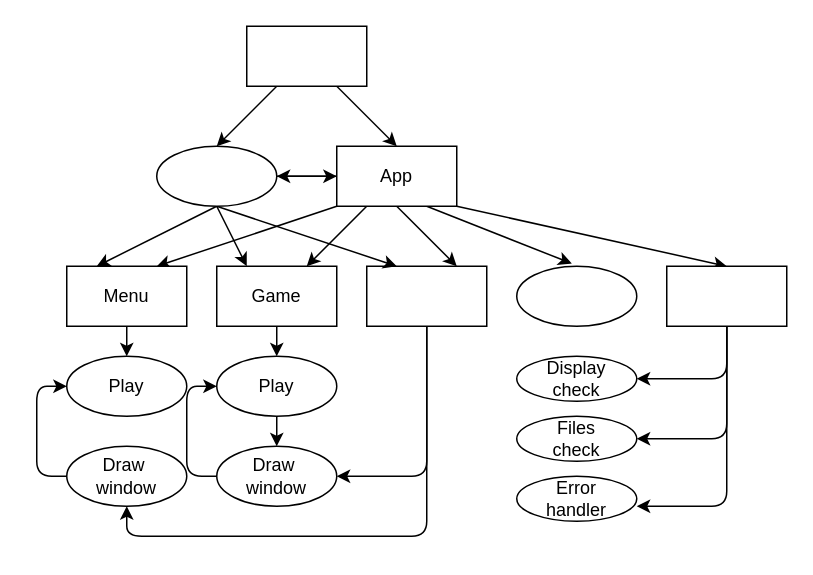
Some shapes in this 813 by 575 pixel diagram are drawn without their labels. The centre of each missing label's shape, as x and y in pixels:
"Launch" goes at [216,175].
"Main.py" goes at [306,55].
"Pygame init" goes at [576,295].
"Screen" goes at [426,295].
"System manager" goes at [726,295].
